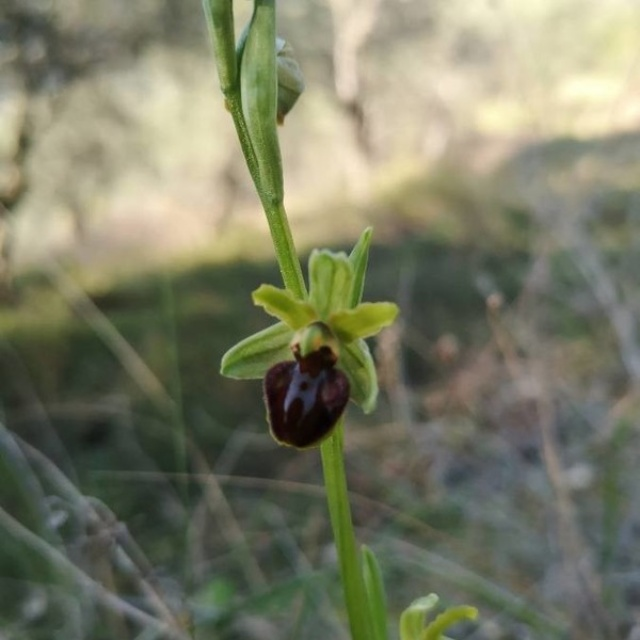obstacle: (188, 18, 420, 627)
